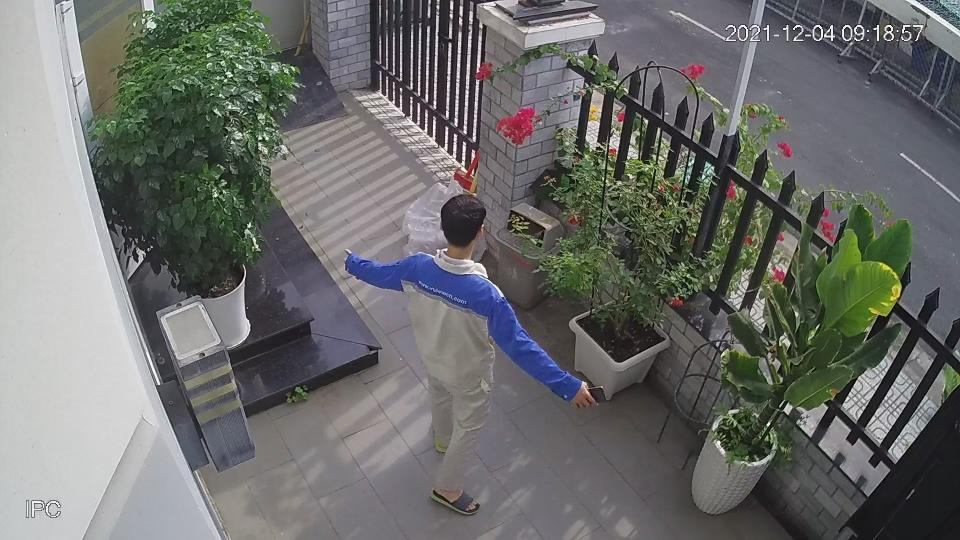person: (346, 193, 601, 513)
